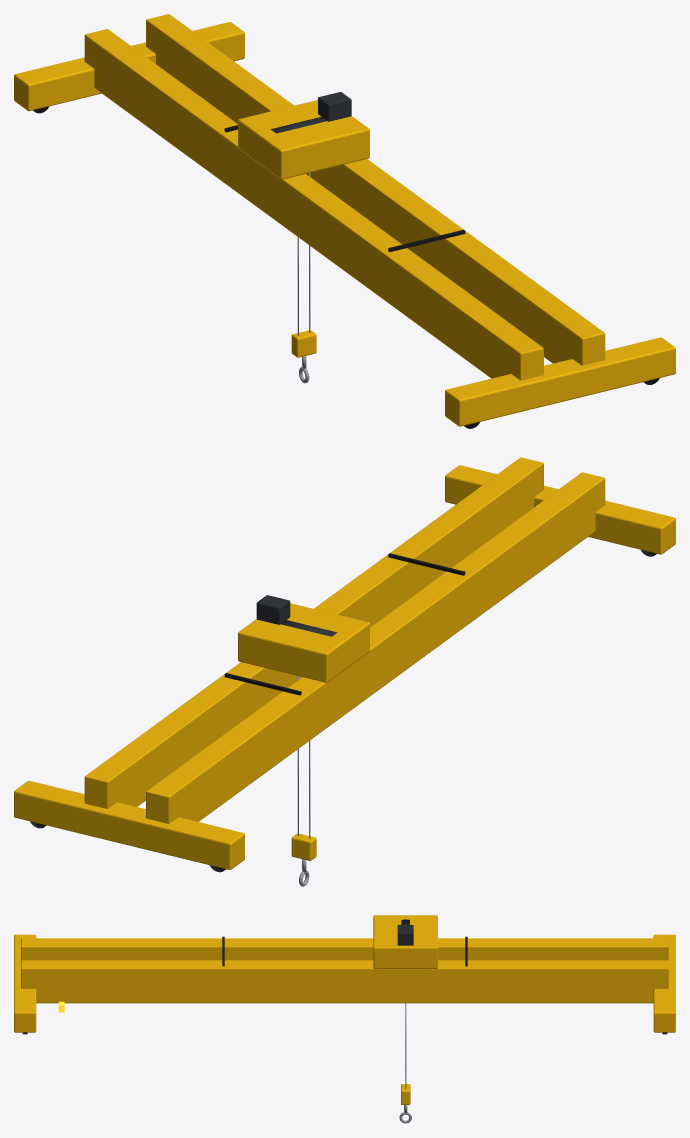
The model's file is crane_bridge.glb.
3 renders of one model, top to bottom at view 1: azimuth 30°, elevation 25°; view 2: azimuth 150°, elevation 25°; view 3: azimuth 270°, elevation 25°, orthographic. The views are drawn at different scales.
Visible parts, largest first — view 1: crane_bridge; view 2: crane_bridge; view 3: crane_bridge.
Boxes of the visible parts, bbox=[...] form: crane_bridge: bbox=[14, 14, 675, 428]; crane_bridge: bbox=[14, 457, 675, 886]; crane_bridge: bbox=[14, 915, 675, 1123].
Size of the model in its own units: 4.6 by 5.61 by 16.35.
